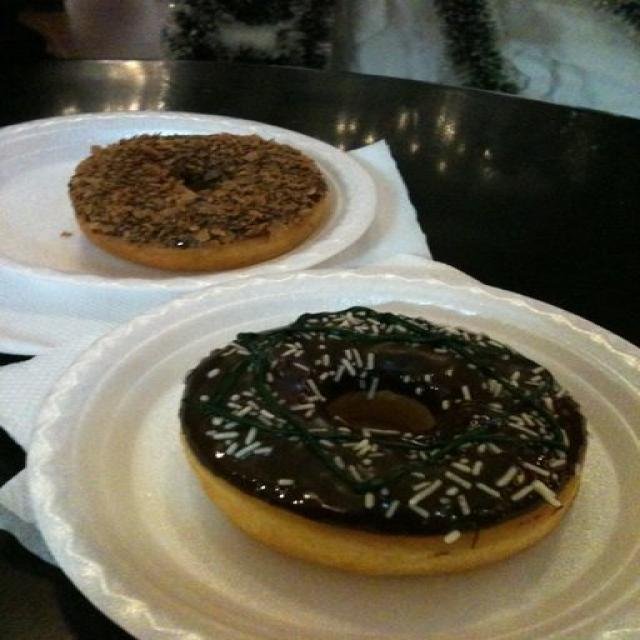Donuts: (75, 123, 590, 579)
